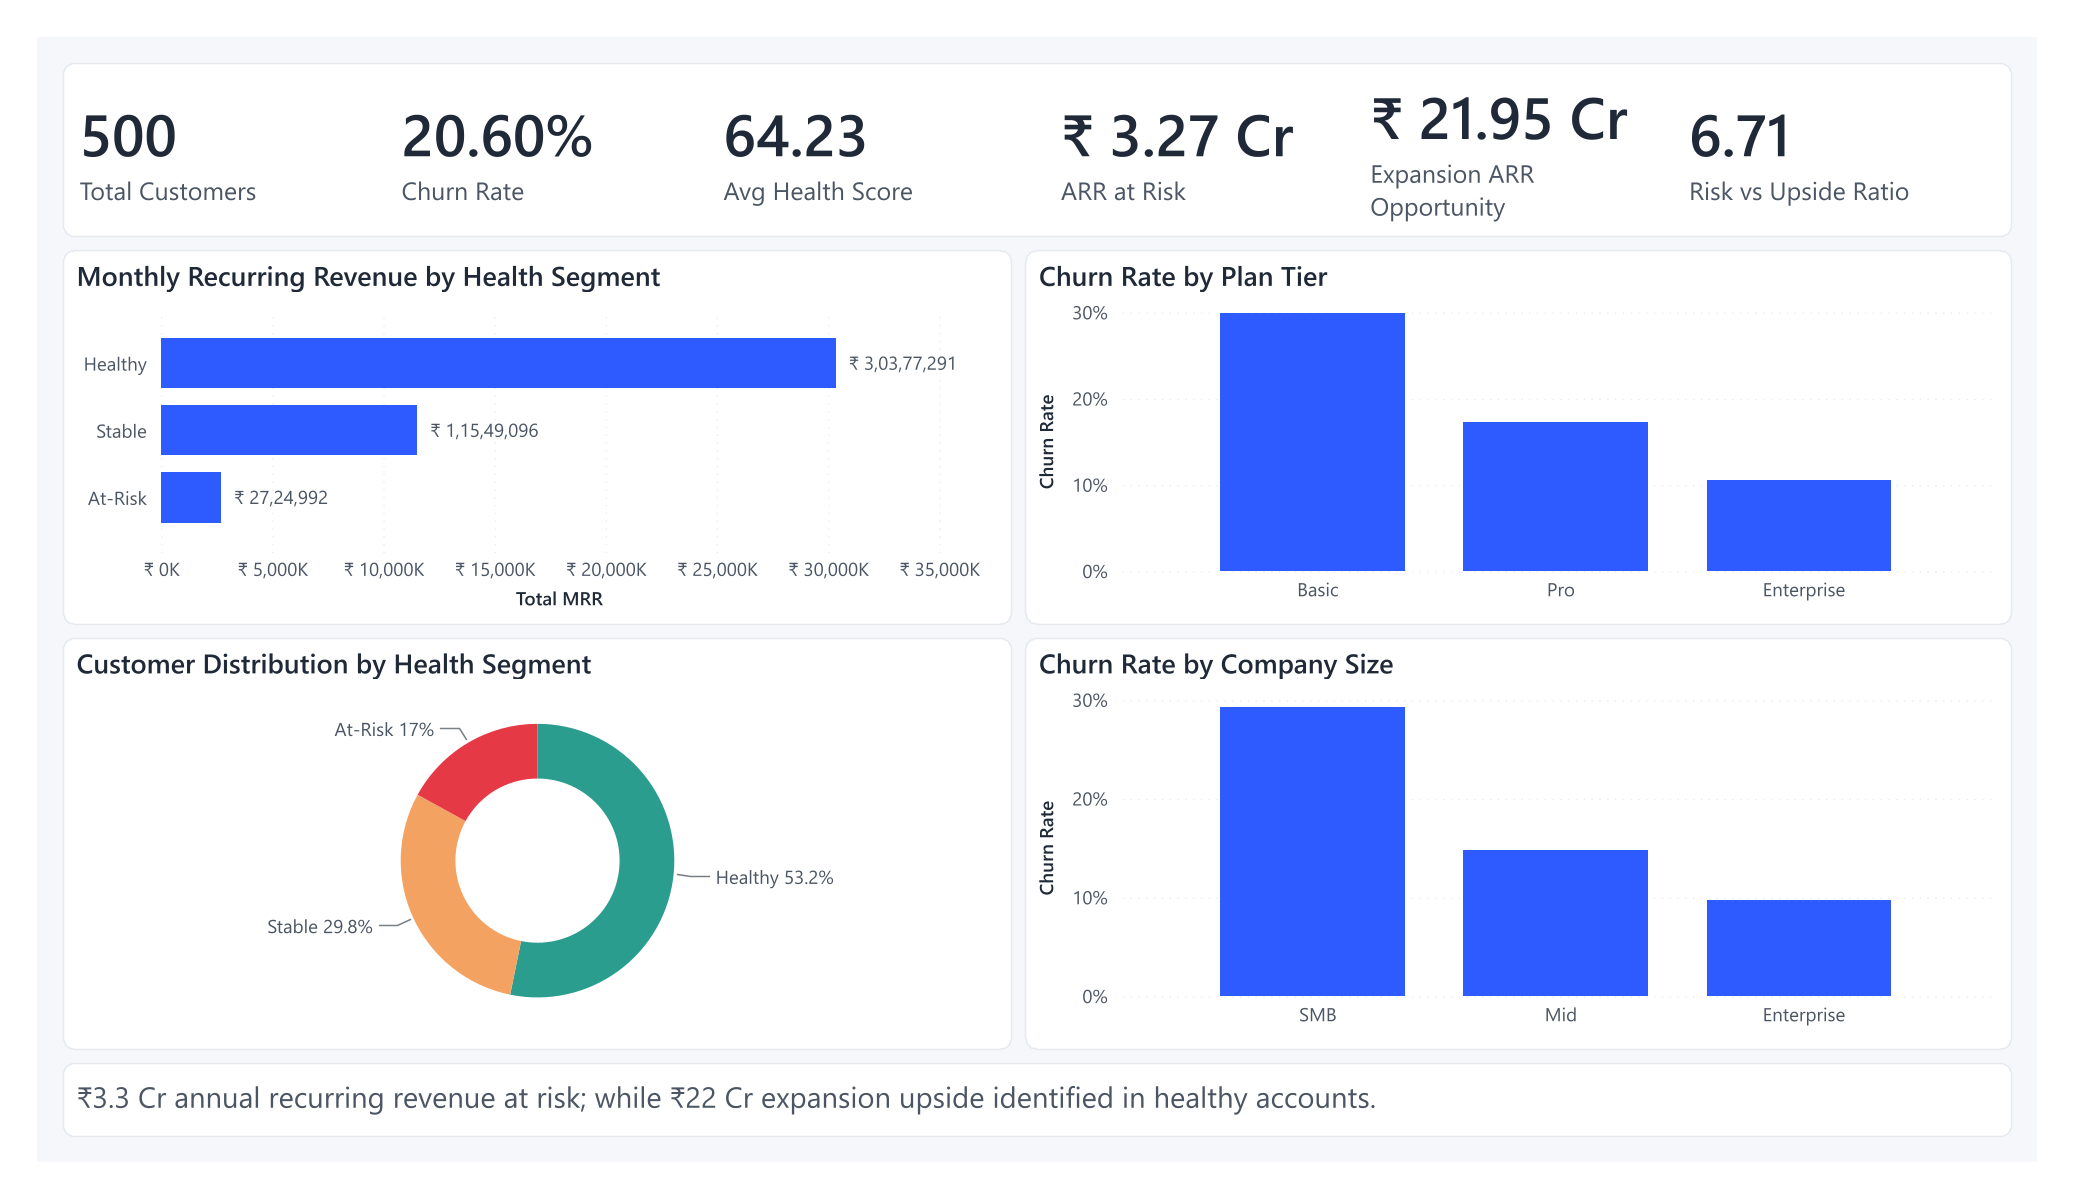

The dashboard page shown, as its layout file describes it:
{"tool":"powerbi","page":{"name":"Executive Overview","canvas":[1280,720],"ordinal":0},"visuals":[{"type":"cardVisual","fields":{"Data":["_Measures.Total Customers","_Measures.Churn Rate","_Measures.Avg Health Score","_Measures.ARR at Risk (Cr)","_Measures.Expansion ARR (Cr)","_Measures.Risk vs Upside Ratio"]},"box":[16,16,1248,112],"z":0},{"type":"donutChart","title":"Customer Distribution by Health Segment","fields":{"Category":["features_final.health_segment"],"Y":["_Measures.Total Customers"]},"box":[16,384,608,264],"z":1000},{"type":"clusteredColumnChart","title":"Churn Rate by Plan Tier","fields":{"Category":["features_final.plan_tier"],"Y":["_Measures.Churn Rate"]},"box":[632,136,632,240],"z":2000},{"type":"barChart","title":"Monthly Recurring Revenue by Health Segment","fields":{"Category":["features_final.health_segment"],"Y":["_Measures.Total MRR"]},"box":[16,136,608,240],"z":3000},{"type":"clusteredColumnChart","title":"Churn Rate by Company Size","fields":{"Category":["features_final.company_size"],"Y":["_Measures.Churn Rate"]},"box":[632,384,632,264],"z":4000},{"type":"textbox","box":[16,656,1248,48],"z":5000}]}

Visuals, with their boxes on the page's 1280x720 design canvas (x1, y1, x2, y2). These are canvas units, not pixel positions in the 2075x1200 screenshot, which may show the page scaled, cropped or inside an application window:
cardVisual - _Measures.Total Customers x _Measures.Churn Rate: detection(16, 16, 1264, 128)
"Customer Distribution by Health Segment" donutChart: detection(16, 384, 624, 648)
"Churn Rate by Plan Tier" clusteredColumnChart: detection(632, 136, 1264, 376)
"Monthly Recurring Revenue by Health Segment" barChart: detection(16, 136, 624, 376)
"Churn Rate by Company Size" clusteredColumnChart: detection(632, 384, 1264, 648)
textbox: detection(16, 656, 1264, 704)
